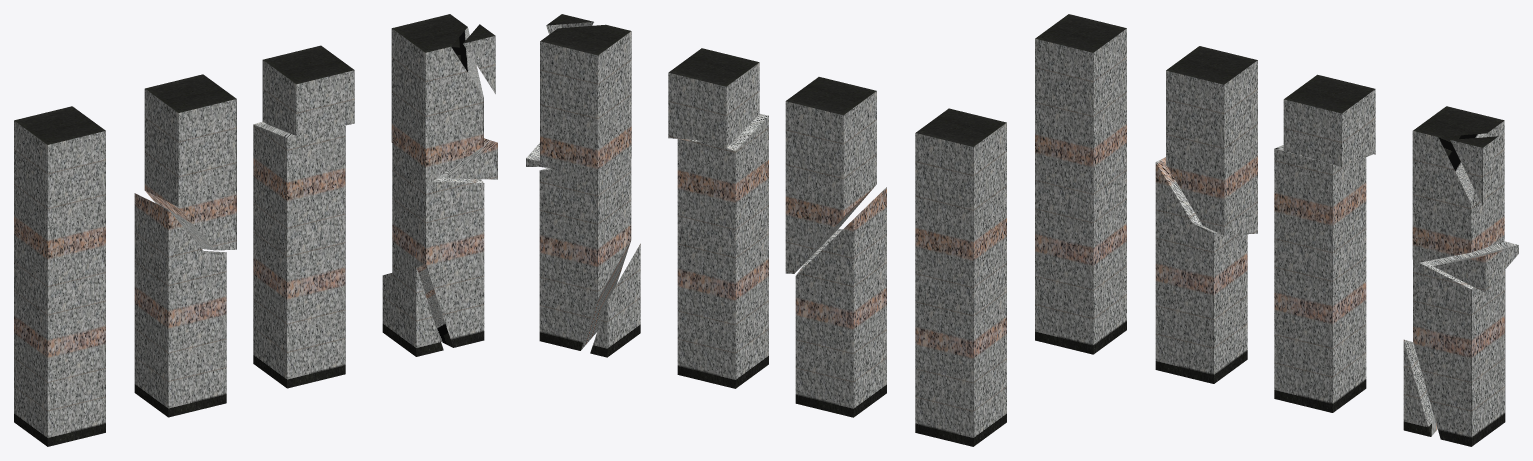
Rendered from SecondColumn.fbx.
3 renders of one model, left to right at view 1: azimuth 30°, elevation 25°; view 2: azimuth 150°, elevation 25°; view 3: azimuth 330°, elevation 25°, orthographic.
Parts seen in each view (by area): view 1: Box001, Box003, Box002, Object001, Box004, Object005, Object002, Object003, Object006, Object004; view 2: Box001, Box003, Box002, Box004, Object001, Object005, Object002, Object003, Object004; view 3: Box001, Box003, Box002, Object001, Box004, Object005, Object002, Object006, Object003, Object004.
Part boxes in pixels (x1,y1,x2,y2): Box001: (14,106,105,446); Box003: (253,121,345,388); Box002: (134,193,226,417); Object001: (144,74,236,250); Box004: (392,143,484,347); Object005: (391,14,483,181); Object002: (262,45,354,135); Object003: (382,266,443,356); Object006: (438,138,497,179); Object004: (463,24,495,93); Box001: (915,108,1006,446); Box003: (677,113,768,388); Box002: (795,187,886,417); Box004: (539,159,631,350); Object001: (785,77,876,273); Object005: (540,24,631,169); Object002: (668,48,759,147); Object003: (590,243,640,357); Object004: (546,14,593,34); Box001: (1035,14,1126,354); Box003: (1274,145,1366,412); Box002: (1155,157,1247,383); Object001: (1166,46,1257,235); Box004: (1413,259,1505,446); Object005: (1412,106,1504,262); Object002: (1283,74,1375,166); Object006: (1430,241,1518,292); Object003: (1403,339,1437,436); Object004: (1450,136,1498,205).
Bounding box in the file's own units: 78.03 × 50 × 10.11.
Materials: 1 (1 with a texture image).
